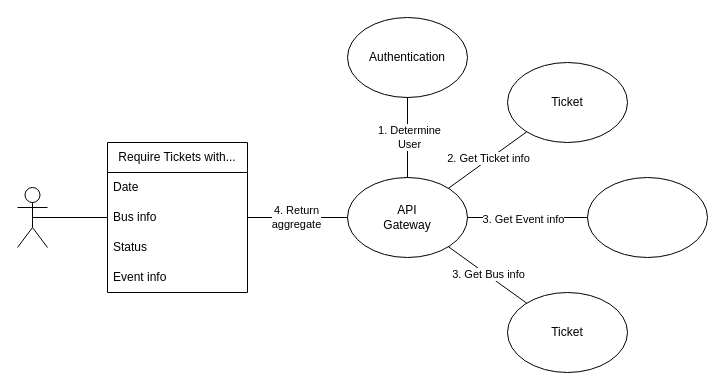
The diagram is 725 pixels wide and 390 high, and some of its shapes have lost their labels. Here are the shapes that lost their labels. From the top down, the centre of each, then its label:
At (x=32, y=217): "Actor".
At (x=647, y=217): "Event".
